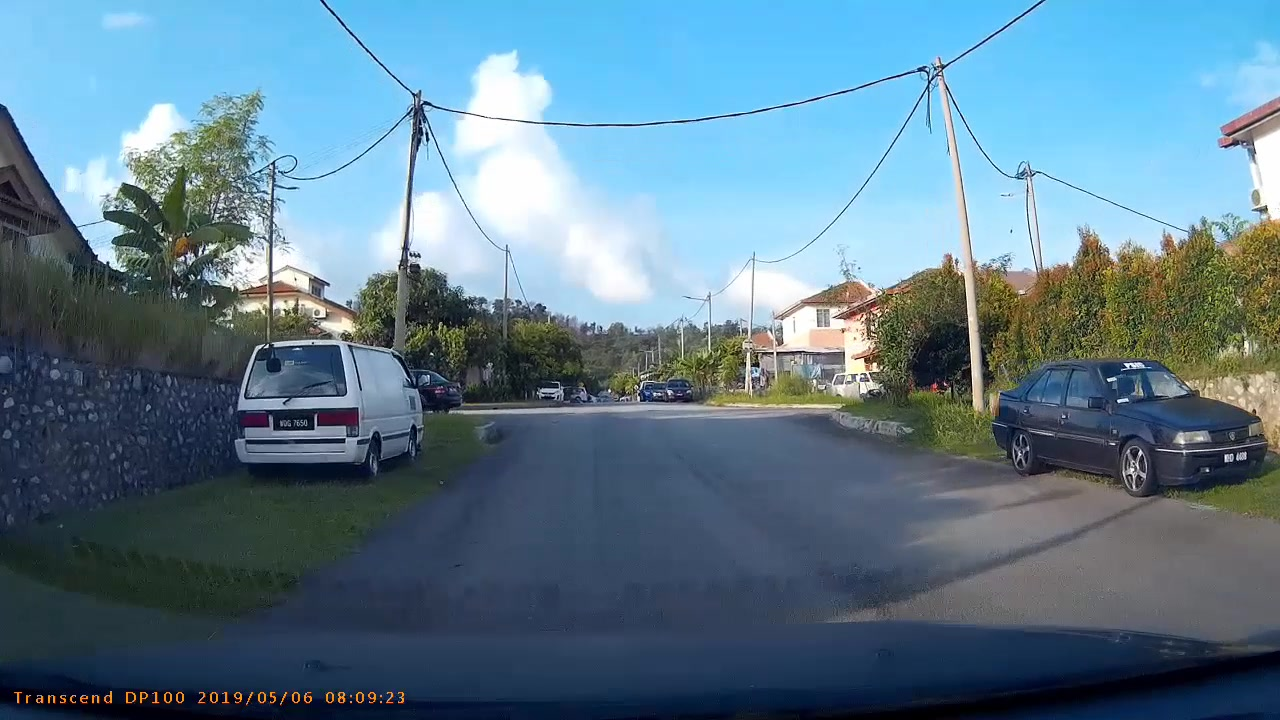license-plate: (268, 411, 316, 434), (1220, 446, 1251, 467)
